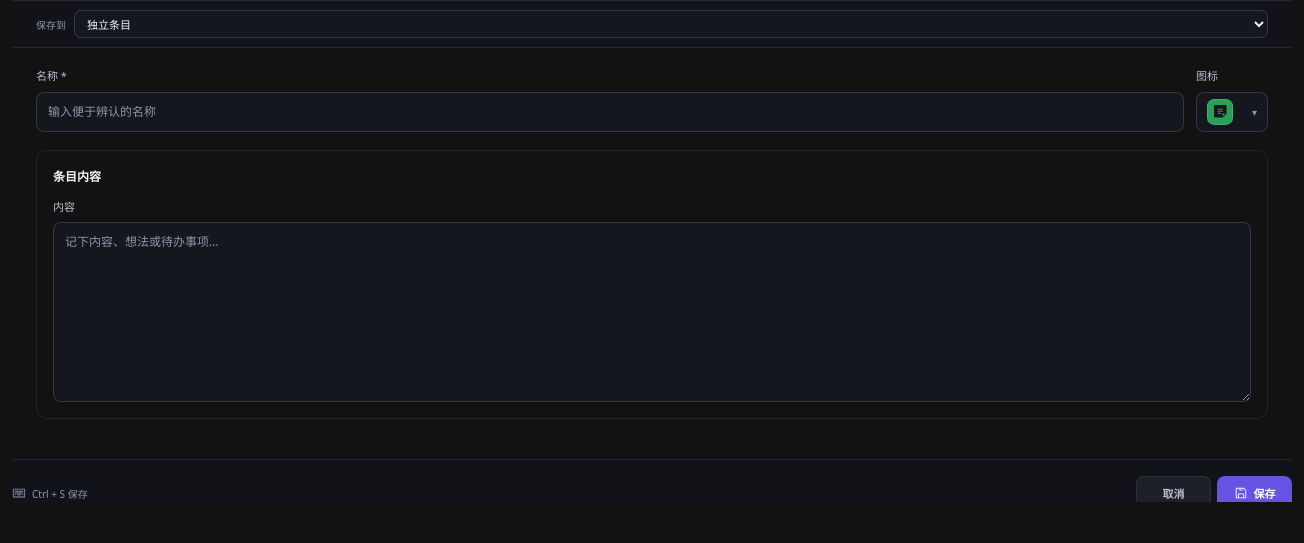
ItemForm validation › a missing name › goes away as soon as the field is edited, not at the next save
This screenshot has width=1304, height=543.
Click the button with test id "item-save" at {"x": 1254, "y": 493}, box [1217,476,1292,510]
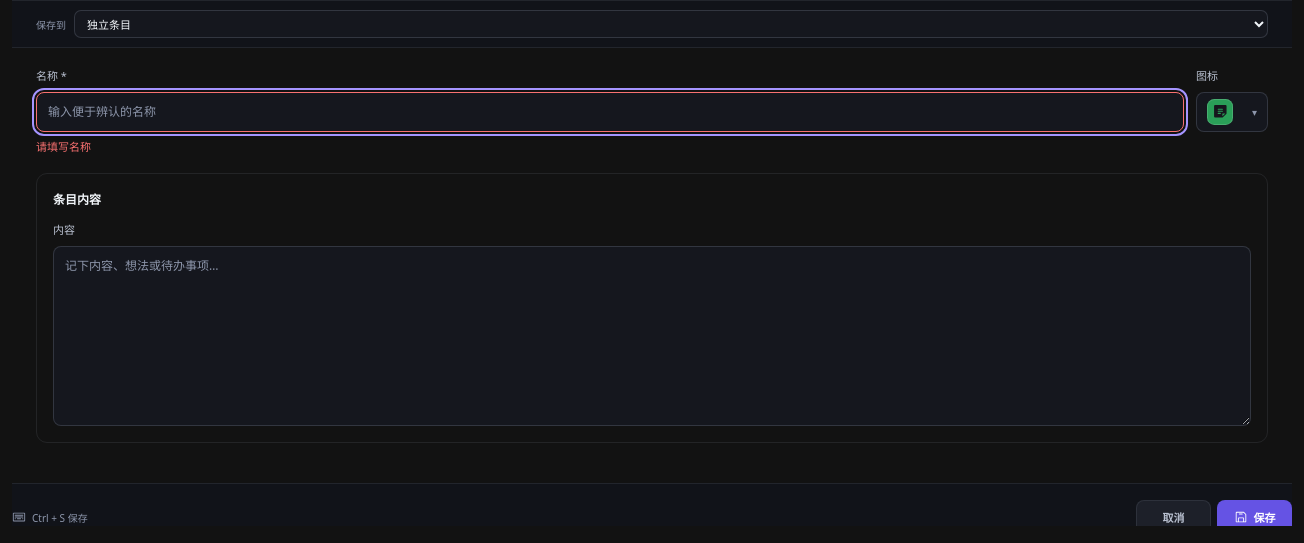
Expected: the message "请填写名称" is shown, [36,138,91,154]
Type "E" into the field with test id "item-name-input" at {"x": 610, "y": 112}, box [36,92,1184,132]
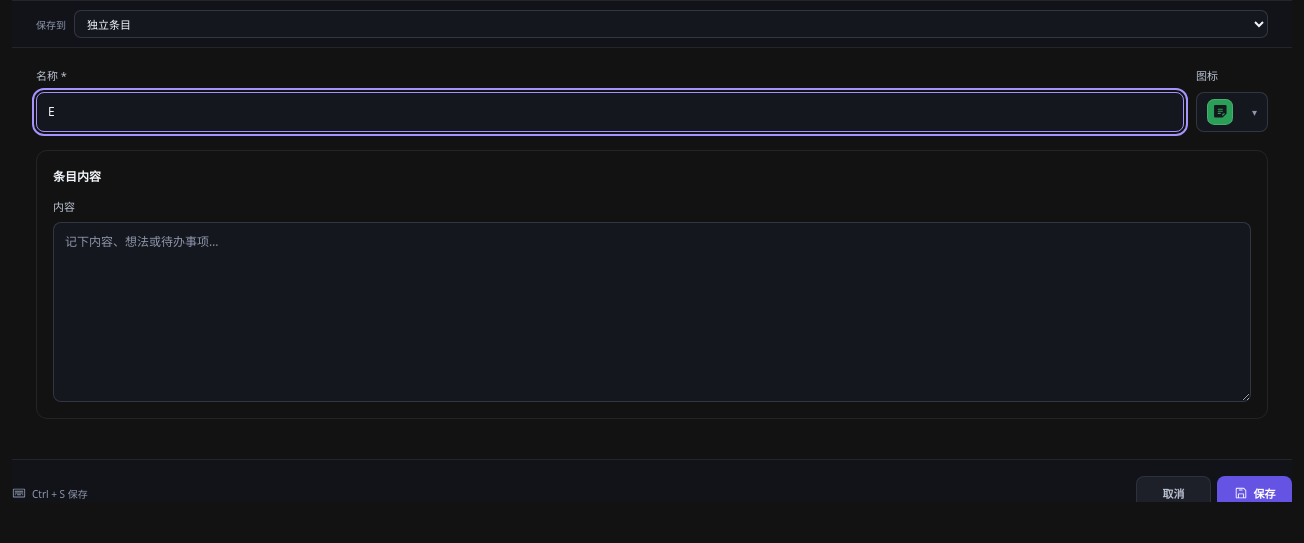
Expected: the message "请填写名称" is gone
